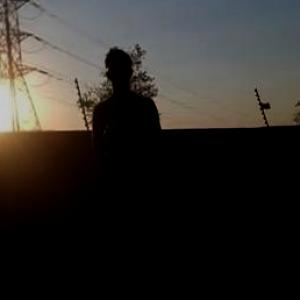follow: (92, 43, 177, 299)
